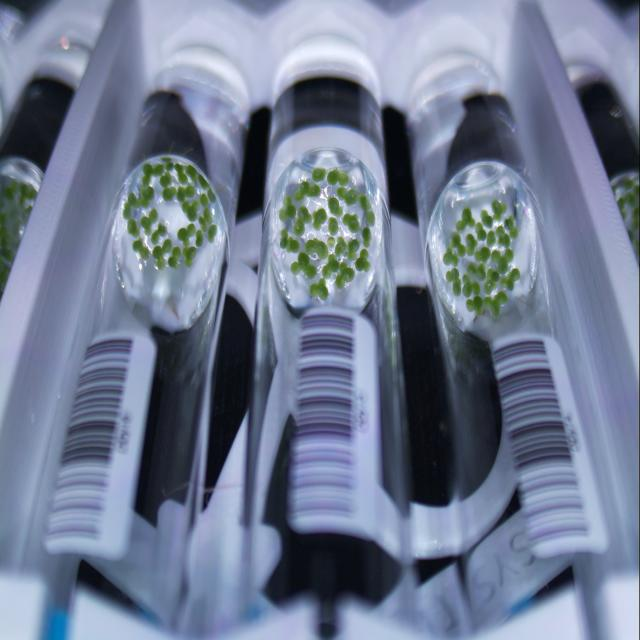Lemna-Gibba: (290, 252, 318, 278), (179, 230, 198, 267), (485, 198, 506, 227), (491, 248, 514, 274), (128, 185, 155, 207), (152, 238, 171, 269), (484, 292, 508, 316), (292, 205, 311, 235), (335, 262, 355, 289), (295, 180, 321, 200), (305, 238, 329, 259), (280, 228, 300, 253), (140, 208, 158, 235), (142, 162, 164, 183), (132, 237, 152, 260), (321, 254, 339, 279), (484, 267, 500, 295), (279, 195, 296, 220), (446, 267, 461, 295), (500, 269, 520, 290), (181, 200, 200, 222), (336, 187, 359, 205), (462, 274, 480, 297), (310, 279, 329, 300), (456, 208, 474, 230), (355, 248, 371, 272), (466, 295, 484, 316), (450, 232, 465, 257), (312, 207, 328, 230), (328, 168, 349, 185), (342, 213, 360, 232), (442, 247, 459, 267), (468, 264, 486, 282), (176, 185, 195, 202), (159, 170, 178, 187), (505, 215, 519, 238), (496, 227, 511, 247), (175, 162, 188, 185), (154, 222, 168, 243), (169, 245, 181, 269), (348, 238, 360, 260), (335, 237, 348, 257), (328, 197, 342, 215), (184, 223, 196, 243), (162, 185, 178, 200), (475, 247, 490, 263), (128, 218, 140, 237), (359, 193, 371, 212), (466, 233, 476, 255), (312, 167, 326, 182), (361, 227, 371, 247), (475, 222, 486, 240), (185, 165, 198, 180), (161, 155, 174, 170), (481, 210, 492, 227), (329, 217, 339, 235), (178, 227, 189, 243), (194, 228, 204, 245), (208, 225, 218, 242), (486, 230, 496, 247), (198, 173, 209, 188), (202, 207, 212, 223), (366, 208, 375, 225), (122, 202, 131, 218), (200, 193, 209, 207), (208, 187, 216, 202), (328, 237, 335, 247), (199, 218, 202, 223)
